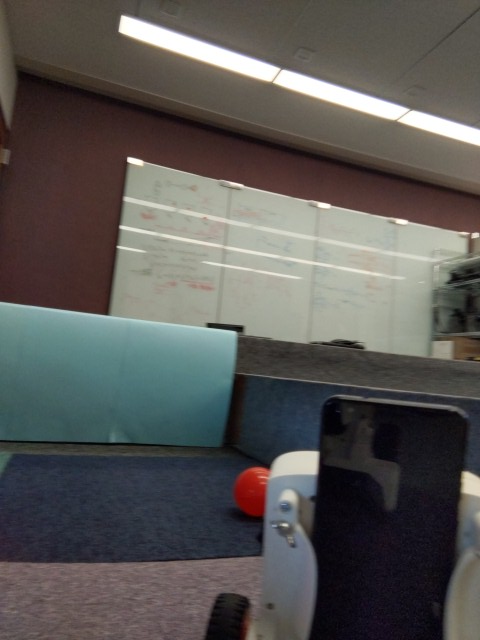f: (210, 381, 480, 640)
